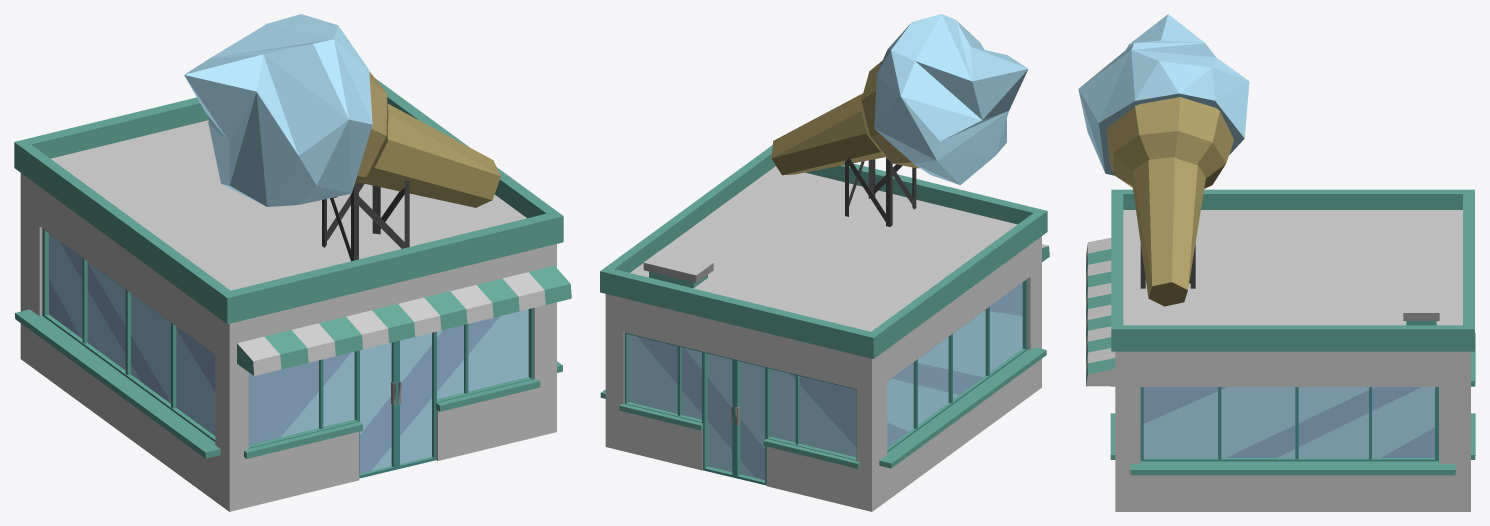
The model's file is cafe_006.fbx.
3 renders of one model, left to right at view 1: azimuth 30°, elevation 25°; view 2: azimuth 150°, elevation 25°; view 3: azimuth 270°, elevation 25°, orthographic. The views are drawn at different scales.
Parts seen in each view (by area): view 1: cafe_006; view 2: cafe_006; view 3: cafe_006.
Boxes of the visible parts, left/top/right/bottom form: cafe_006: left=14, top=14, right=571, bottom=511; cafe_006: left=600, top=14, right=1049, bottom=511; cafe_006: left=1078, top=14, right=1475, bottom=511.
Bounding box in the file's own units: 552 × 647 × 624.
